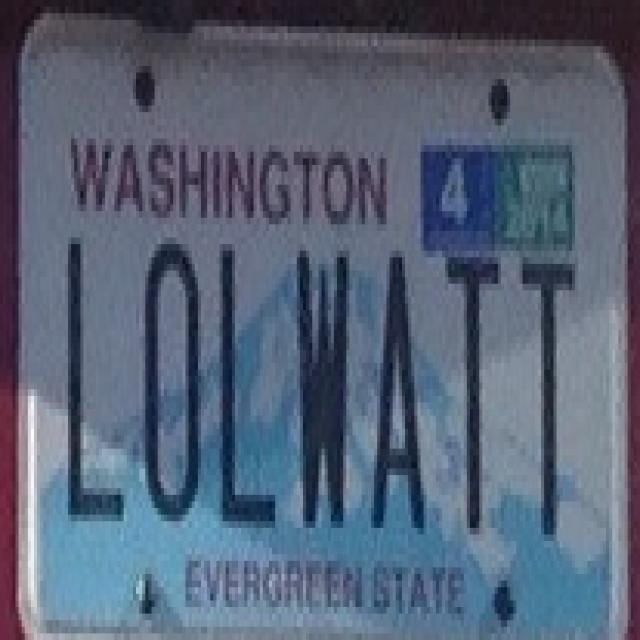0: (141, 226, 209, 516)
A: (369, 234, 434, 542)
L: (65, 215, 136, 545), (215, 239, 288, 543)
T: (515, 246, 592, 558), (443, 241, 508, 548)
W: (294, 239, 364, 534)
